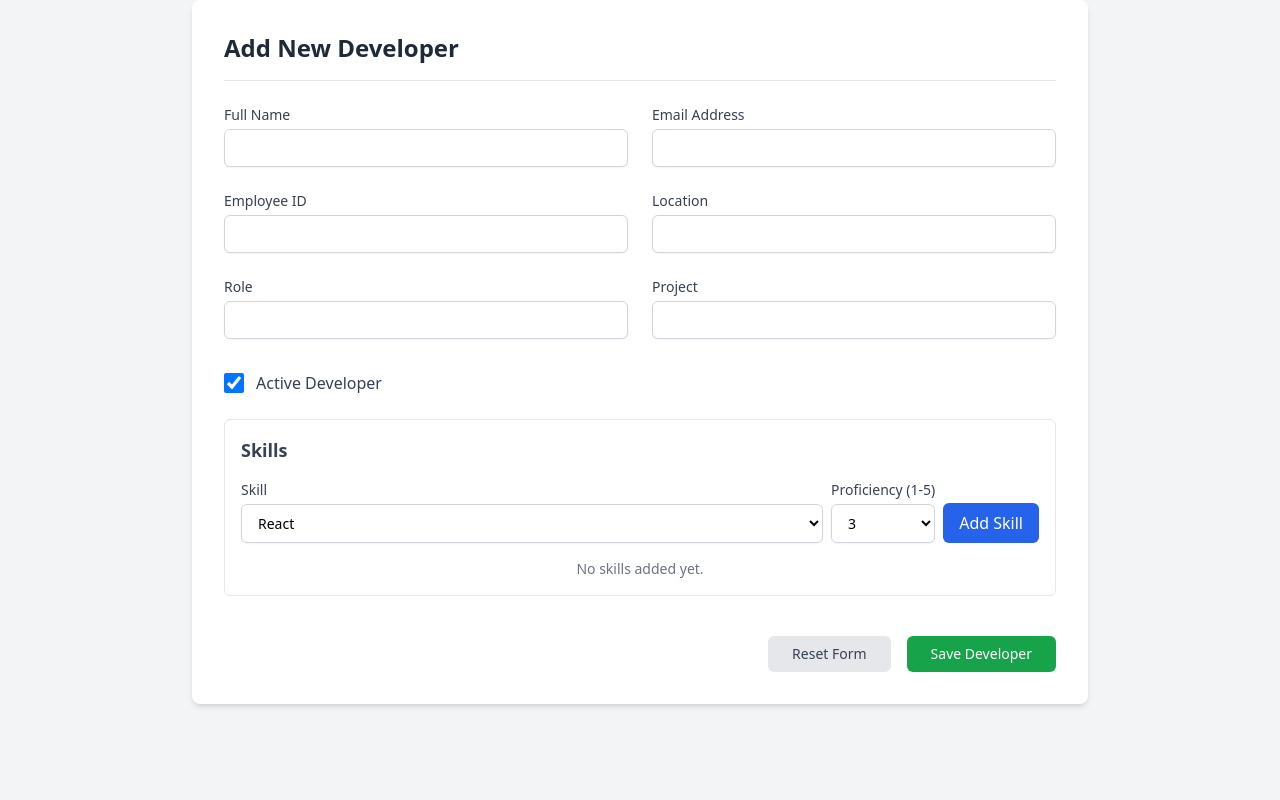
Test: AddDeveloperForm Component › successfully submits the form with valid data
This screenshot has width=1280, height=800.
Note: Fill out the form
Type "John Doe" into the field labelled "Full Name" at (426, 148), box [224,129,628,167]
Type "john.doe@test.com" into the field labelled "Email Address" at (854, 148), box [652,129,1056,167]
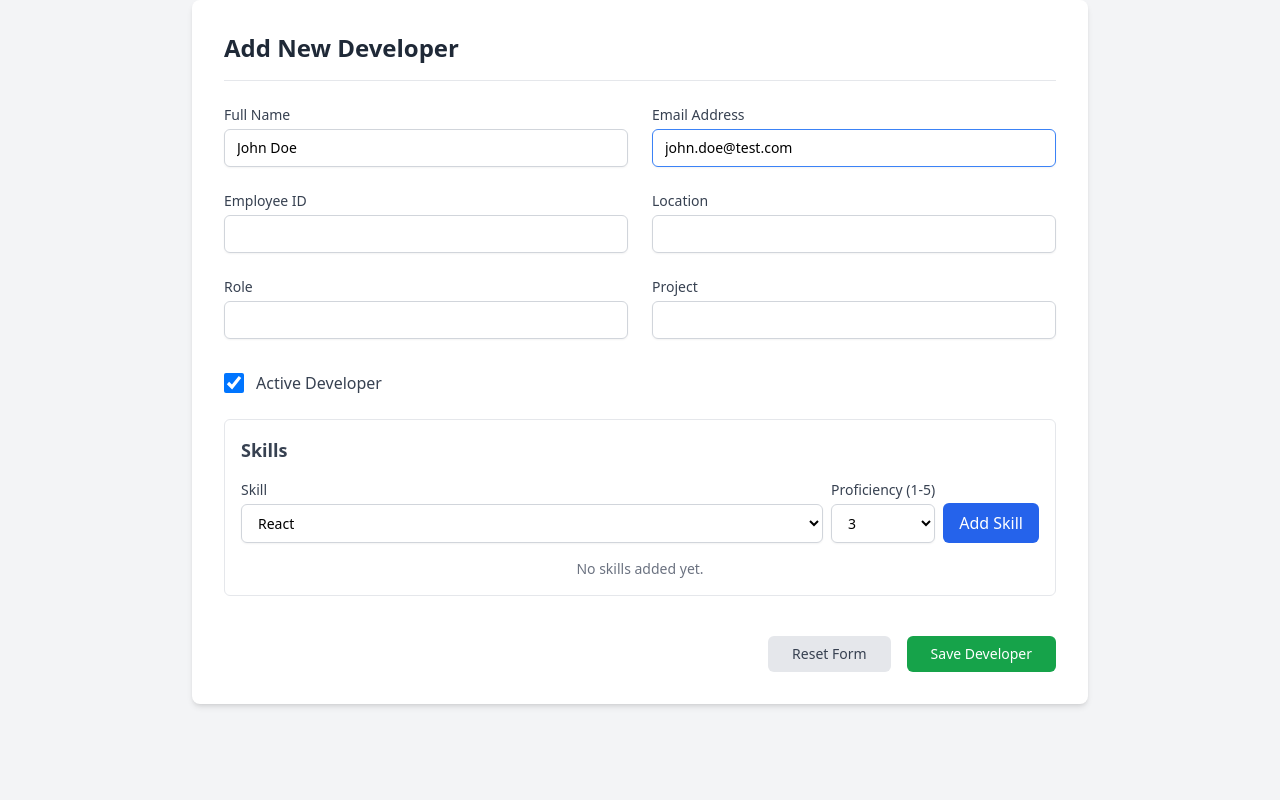
Type "Frontend Developer" into the field labelled "Role" at (426, 320), box [224,301,628,339]
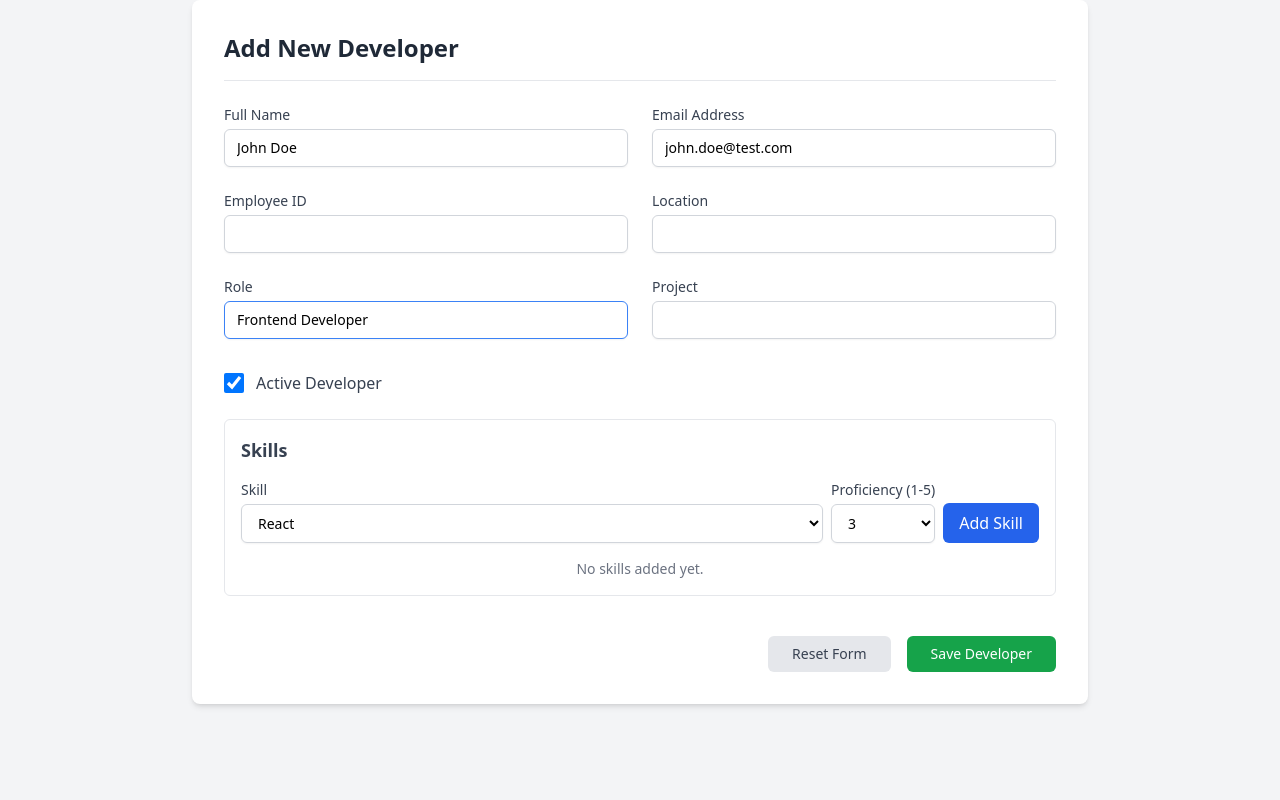
Note: Add a skill
Select "React" in the dropdown labelled "Skill" at (532, 524), box [241,504,823,543]
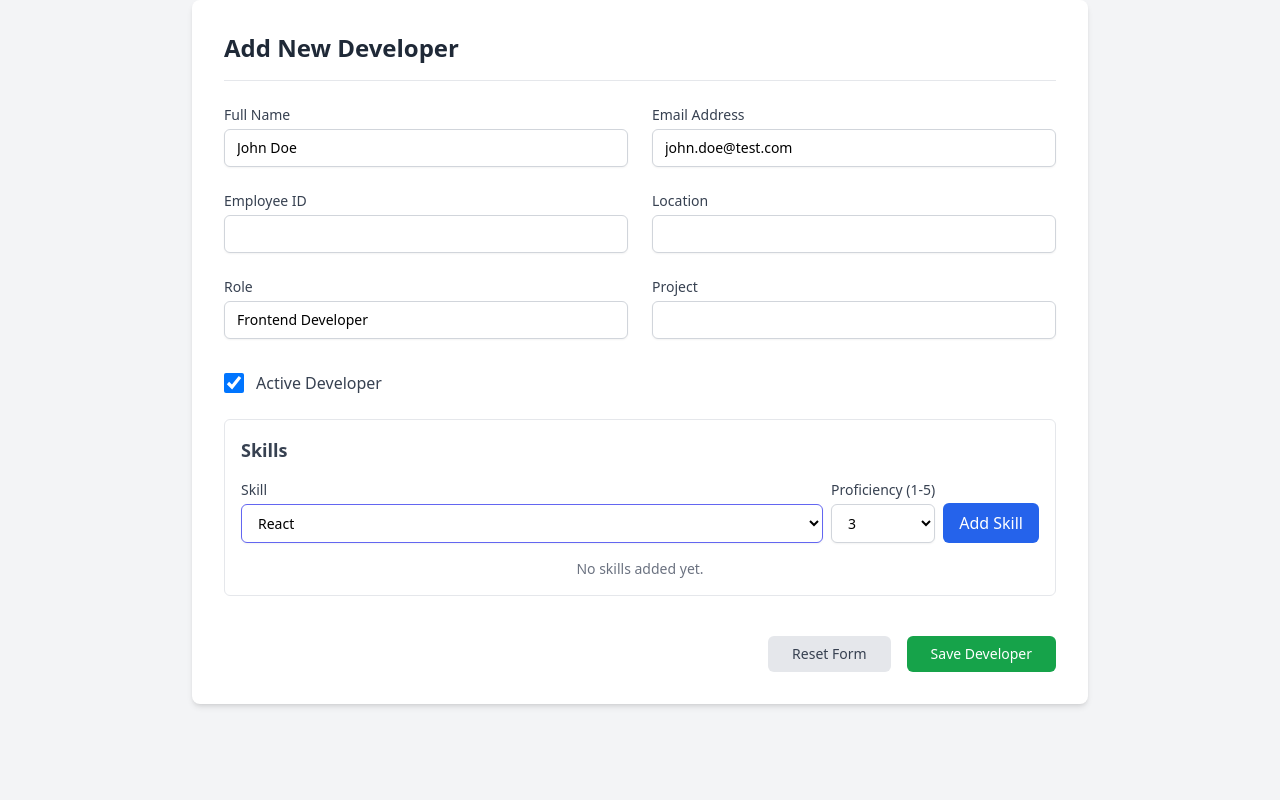
Select "4" in the dropdown labelled "Proficiency (1-5)" at (883, 524), box [831,504,935,543]
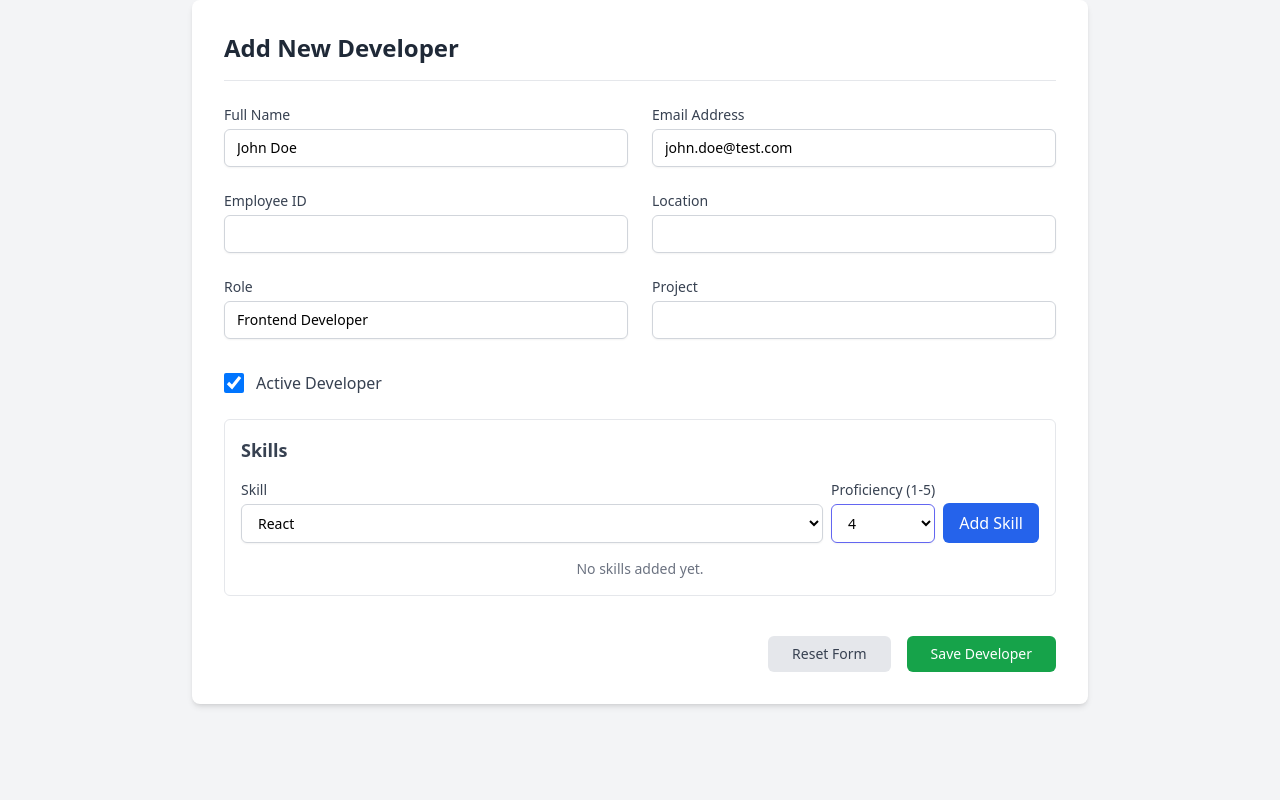
Click the button "Add Skill" at (991, 523), box [943,503,1039,543]
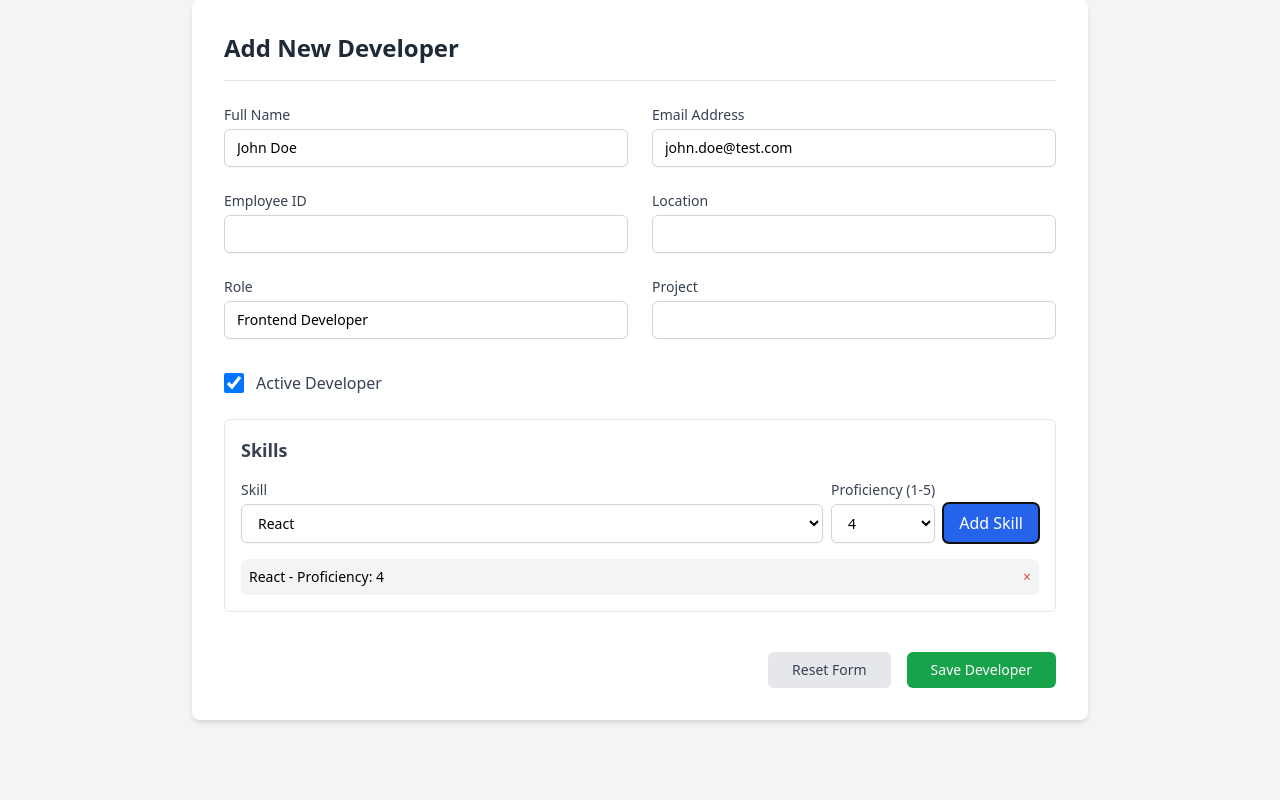
Note: Submit the form
Click the button "Save Developer" at (981, 670), box [907,652,1056,688]
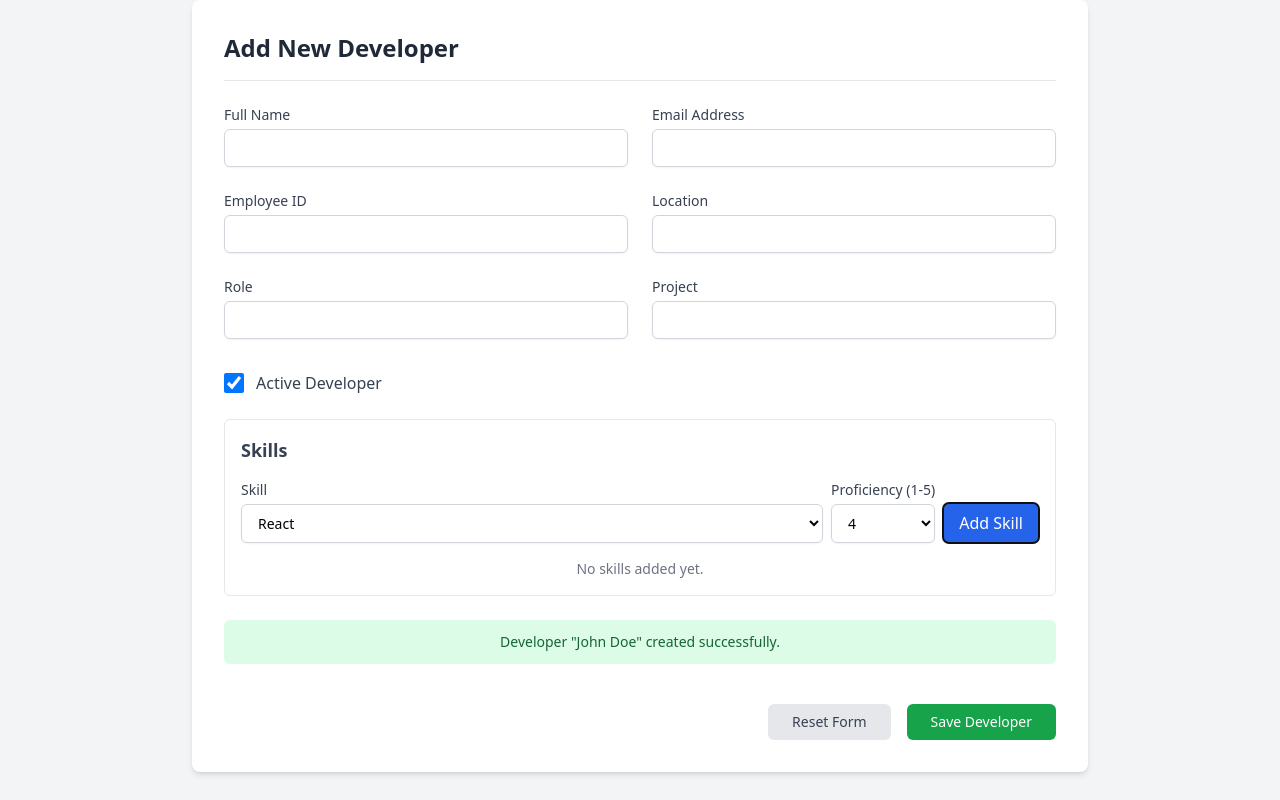
Now the text "Developer \"John Doe\" created successfully." is shown, box [224,620,1056,664]
Now the field labelled "Full Name" is empty, box [224,129,628,167]
